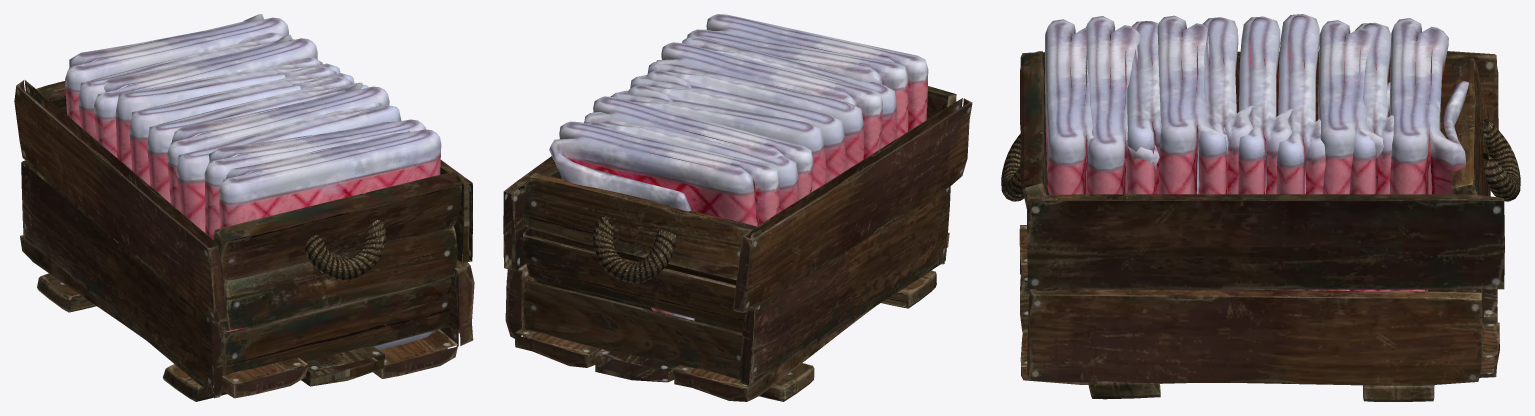
3 views of the same model, side by side, from view 1: azimuth 30°, elevation 25°; view 2: azimuth 150°, elevation 25°; view 3: azimuth 270°, elevation 25° (orthographic). The views are drawn at different scales.
Parts seen in each view (by area): view 1: SM_Dec_Garou_Chest_Cloth_Padded_Small_LOD0; view 2: SM_Dec_Garou_Chest_Cloth_Padded_Small_LOD0; view 3: SM_Dec_Garou_Chest_Cloth_Padded_Small_LOD0.
Boxes of the visible parts, x1=… form: SM_Dec_Garou_Chest_Cloth_Padded_Small_LOD0: x1=14, y1=14, x2=474, y2=401; SM_Dec_Garou_Chest_Cloth_Padded_Small_LOD0: x1=503, y1=14, x2=972, y2=401; SM_Dec_Garou_Chest_Cloth_Padded_Small_LOD0: x1=1001, y1=14, x2=1520, y2=401.
Bounding box in the file's own units: 0.6922 × 0.5503 × 0.9929.
2 materials, 2 textured.
